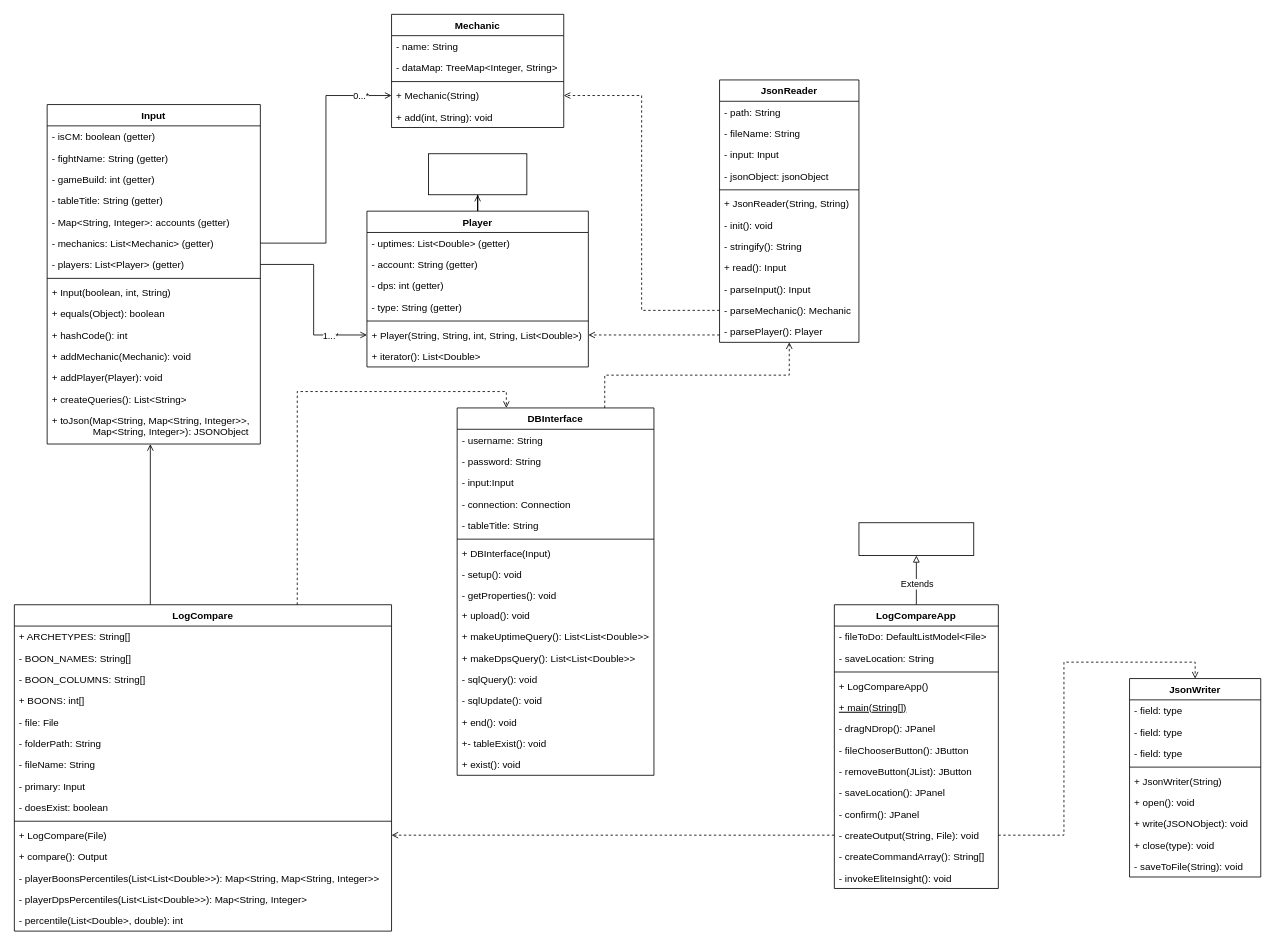
The diagram is 1275 pixels wide and 948 high, and some of its shapes have lost their labels. The box of each missing label's shape, as (x1, y1, x2, y2) in pixels:
JFrame: (858, 522, 974, 556)
«interface» Interable<Double>: (428, 153, 527, 195)
